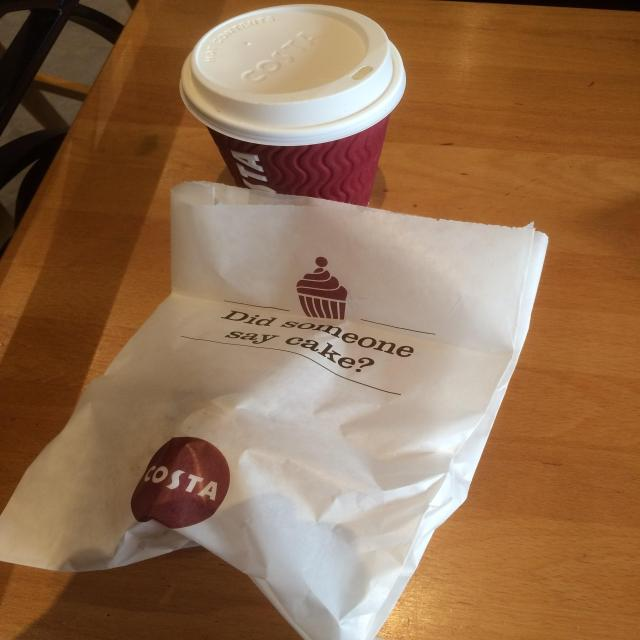litter: (0, 181, 548, 639), (179, 4, 407, 206), (179, 4, 405, 146)
